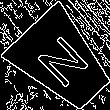N_SE: (30, 30, 94, 94)
